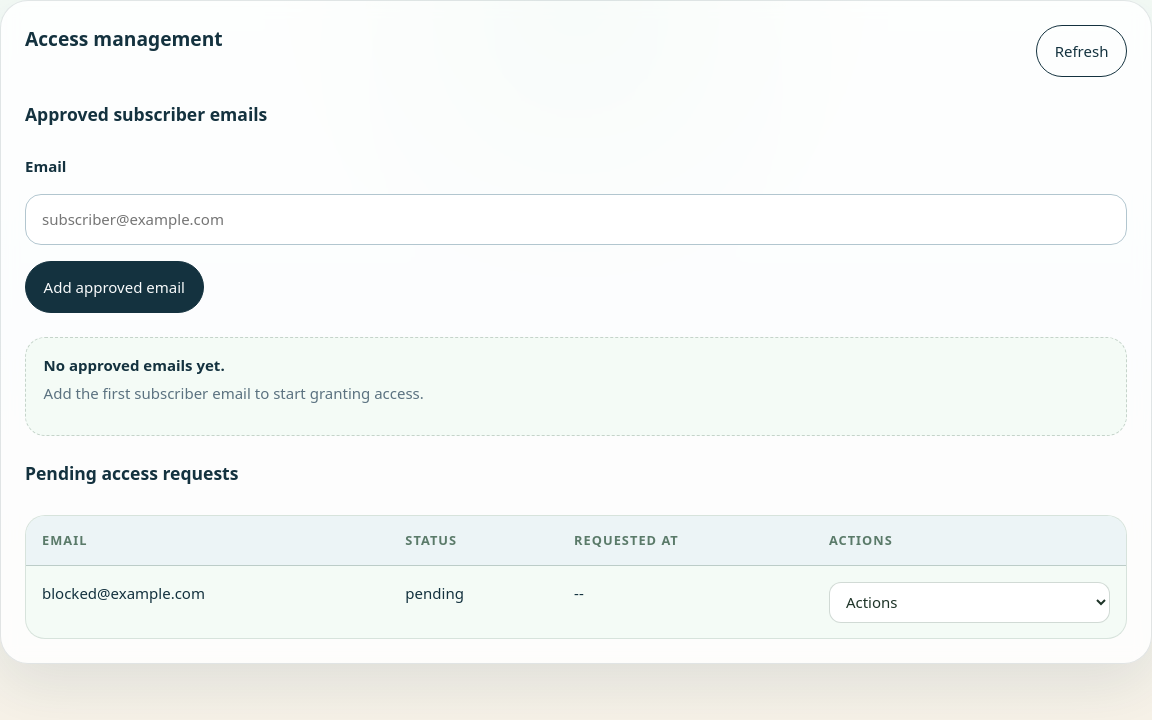
AdminPage › denies a pending request
Expected: the text "blocked@example.com" is shown, [26,566,389,638]
Select "Deny" in the dropdown named "Actions for blocked@example.com". click: [969, 602]
box: [829,582,1110,623]
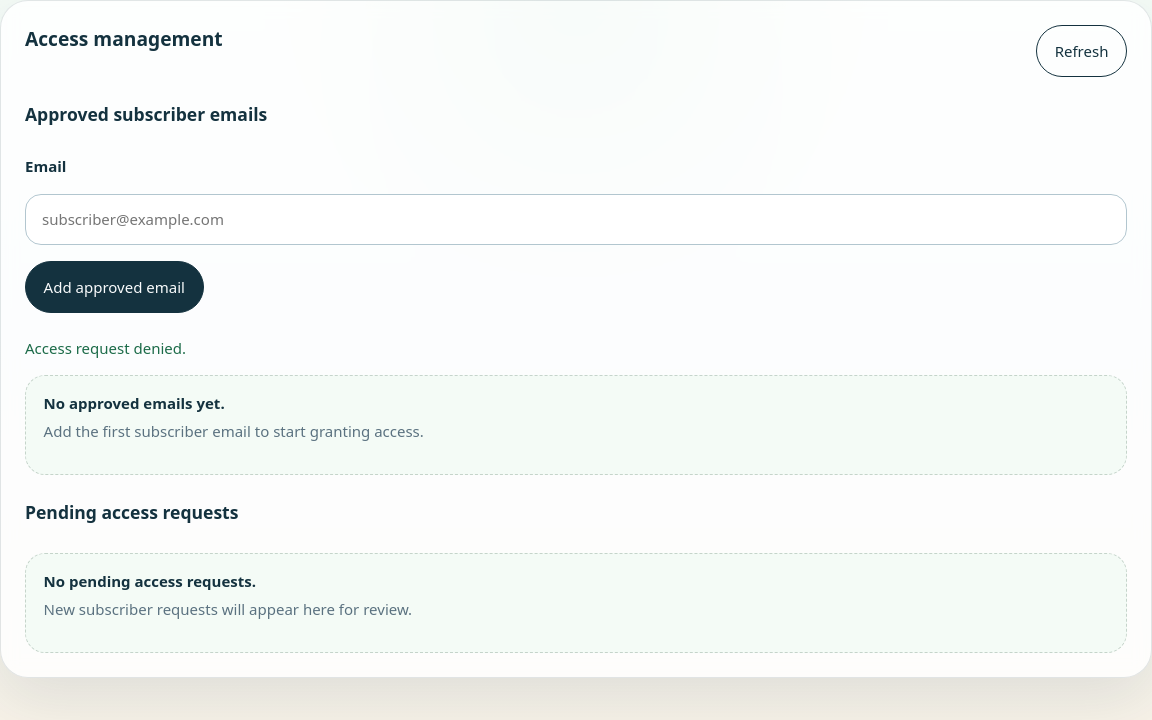
Expected: the text "Access request denied." is shown, [25,338,186,358]
